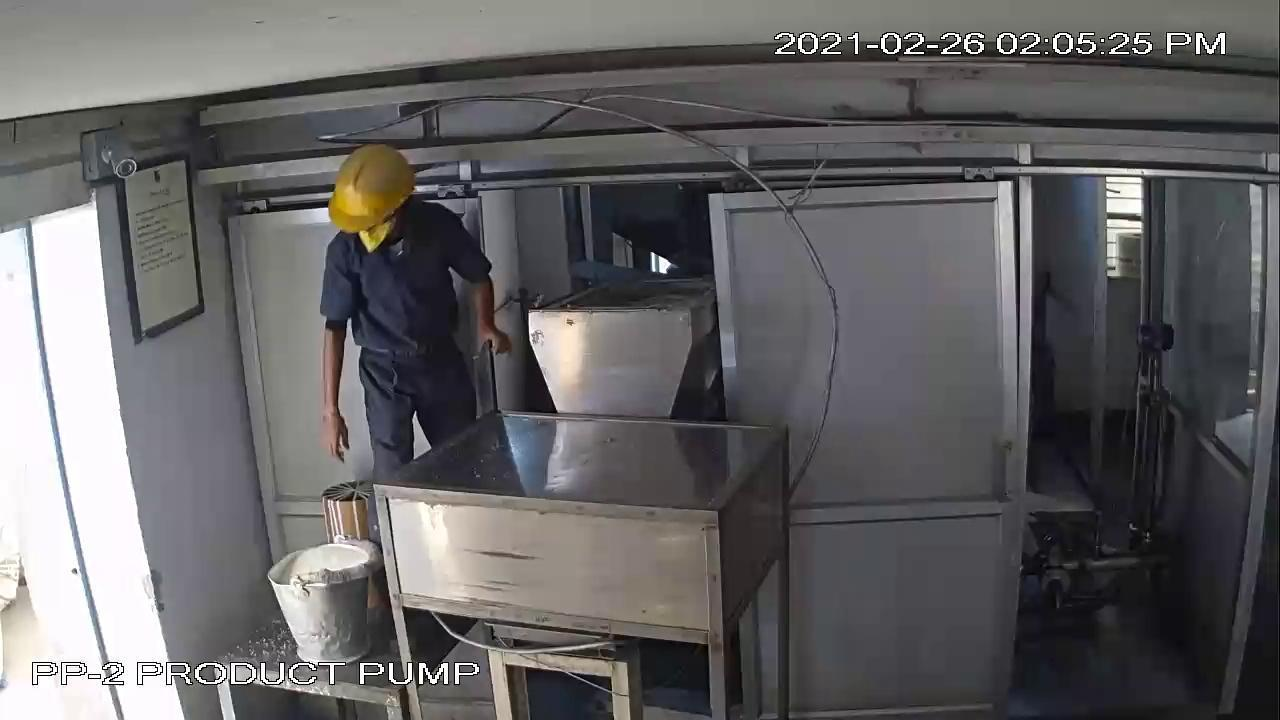helmet: (315, 140, 420, 240)
